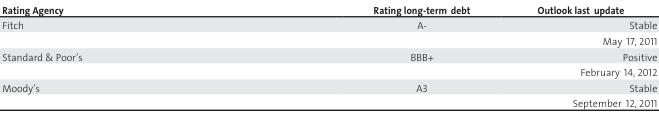table: (1, 0, 656, 110)
table column: (227, 0, 503, 110), (1, 0, 227, 110), (503, 0, 656, 110)
table column header: (1, 0, 656, 16)
table row: (1, 0, 656, 16), (1, 16, 656, 32), (1, 47, 656, 63), (1, 63, 656, 79), (1, 94, 656, 110), (1, 32, 656, 47), (1, 79, 656, 94)
table spanning cell: (1, 47, 227, 79), (1, 16, 227, 47), (1, 79, 227, 110)
